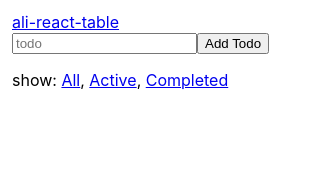
Todo List › can add a todo
This screenshot has width=332, height=172.
Type "Washing my clothes" into the field with placeholder "todo" at [105, 44], box [12, 33, 197, 54]
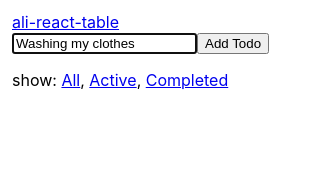
Click the button "Add Todo" at [233, 44], box [197, 33, 269, 54]
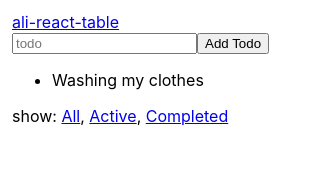
Now the list item "Washing my clothes" is shown, box [52, 70, 204, 90]
